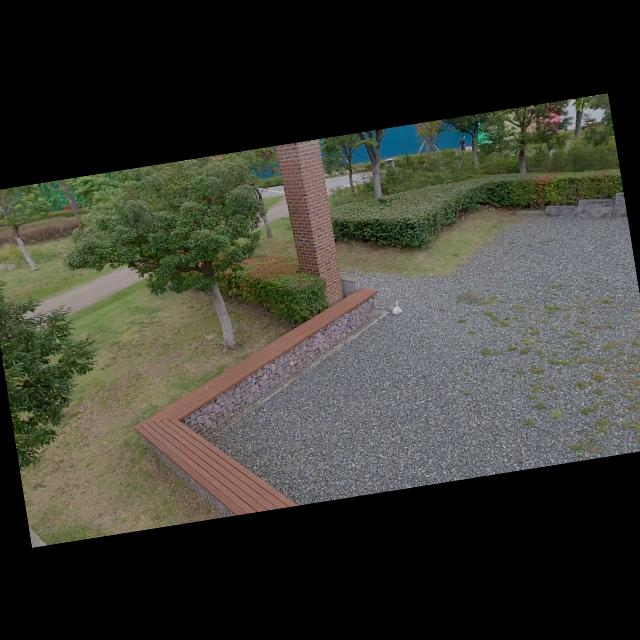trash: (385, 298, 405, 318)
